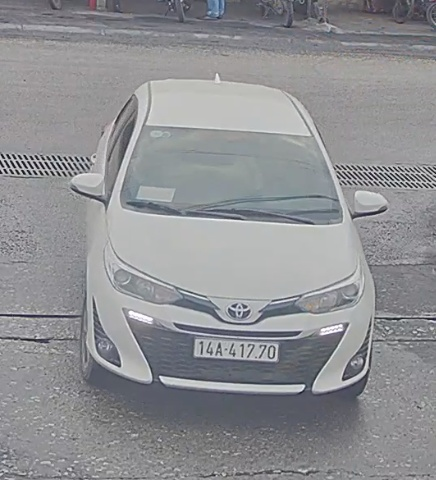vehicle plate: (185, 330, 283, 363)
